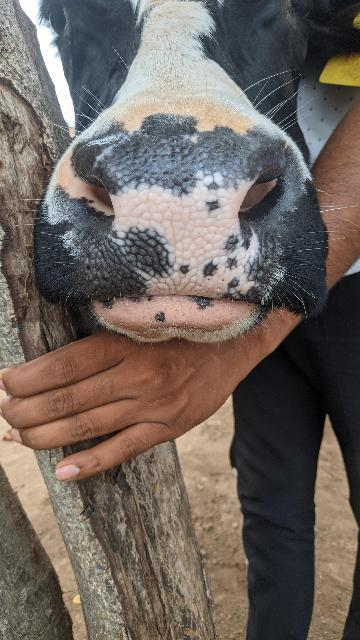Muzzle: (80, 143, 278, 299)
